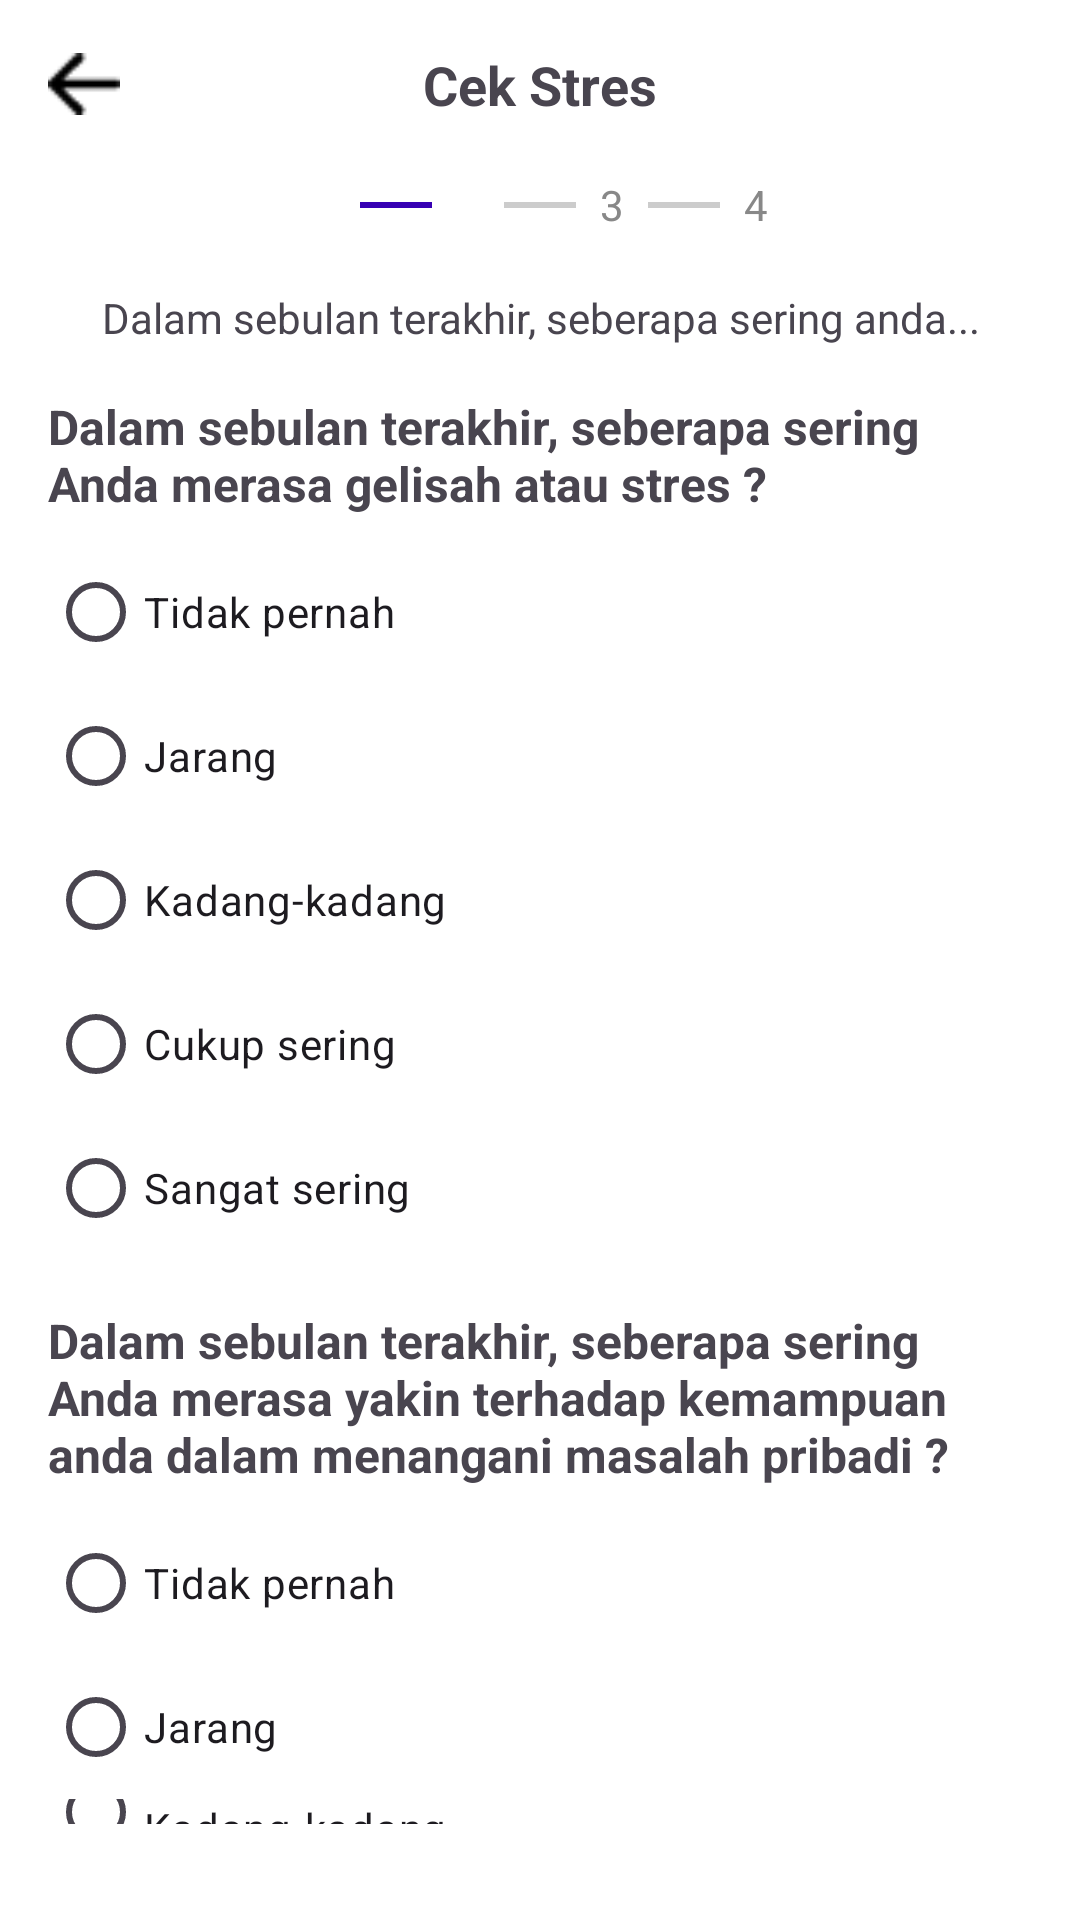

Icon click points for this 1080x1920 phone screenshot, format (x=x, y=y):
Kembali: (x=84, y=84)
